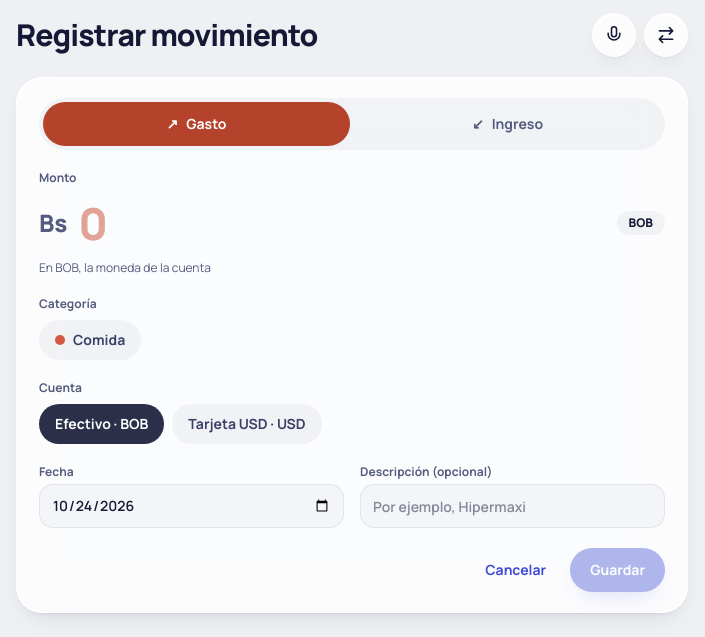
Test case: registro por voz › RF-2 and RF-8 a written phrase is reviewed once the worker is done
Step 1. Click the button named "Dictar" → [614, 34], box x1=592 y1=12 x2=636 y2=56
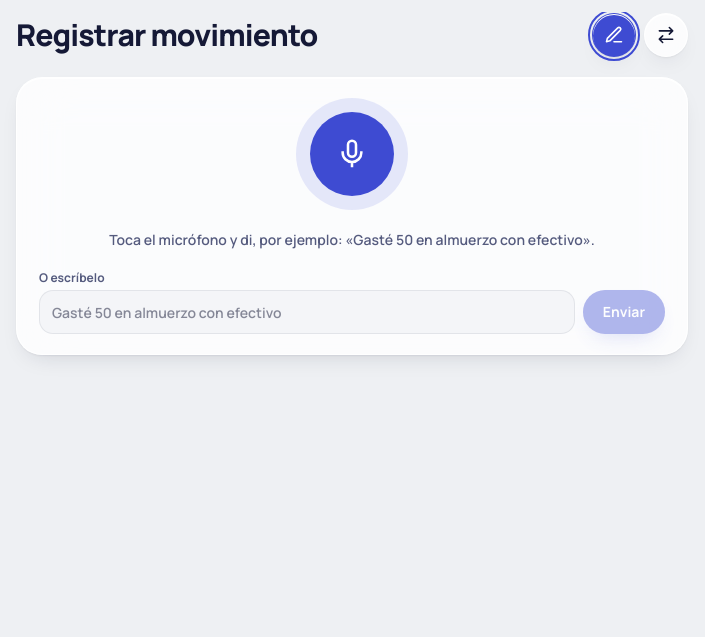
Step 2. Type "Gasté 50" into the field labelled "O escríbelo" → [307, 312], box x1=39 y1=290 x2=575 y2=334
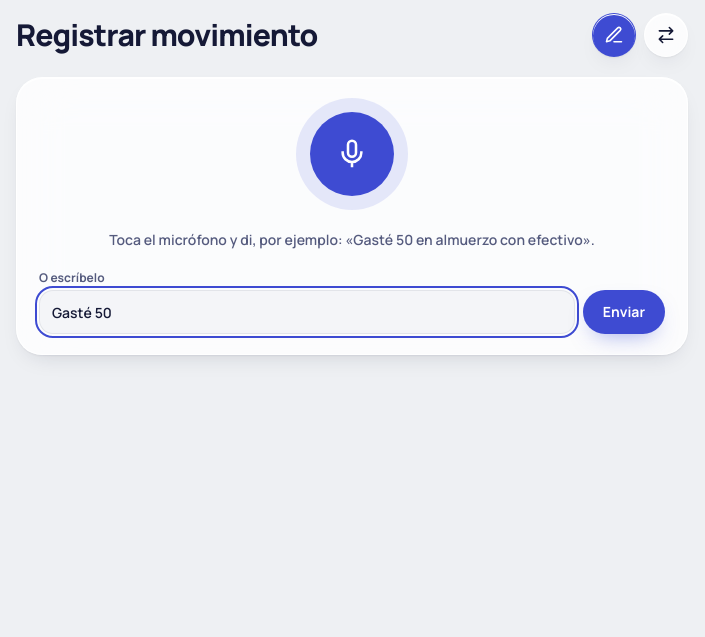
Step 3. Click the button "Enviar" → [624, 312], box x1=583 y1=290 x2=665 y2=334
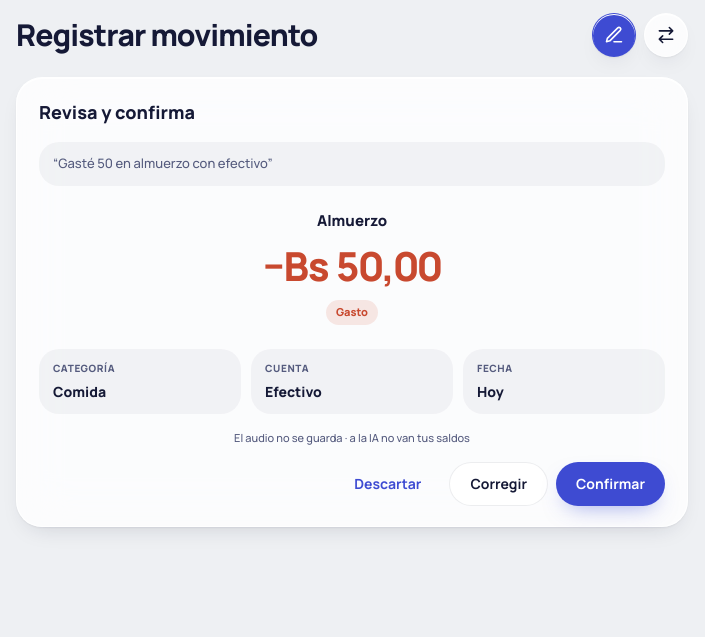
Expected: the heading "Revisa y confirma" is shown, x1=39 y1=100 x2=195 y2=124
Expected: the text "−Bs 50,00" is shown, x1=263 y1=236 x2=441 y2=296
Expected: the text "Comida" is shown, x1=53 y1=382 x2=106 y2=400
